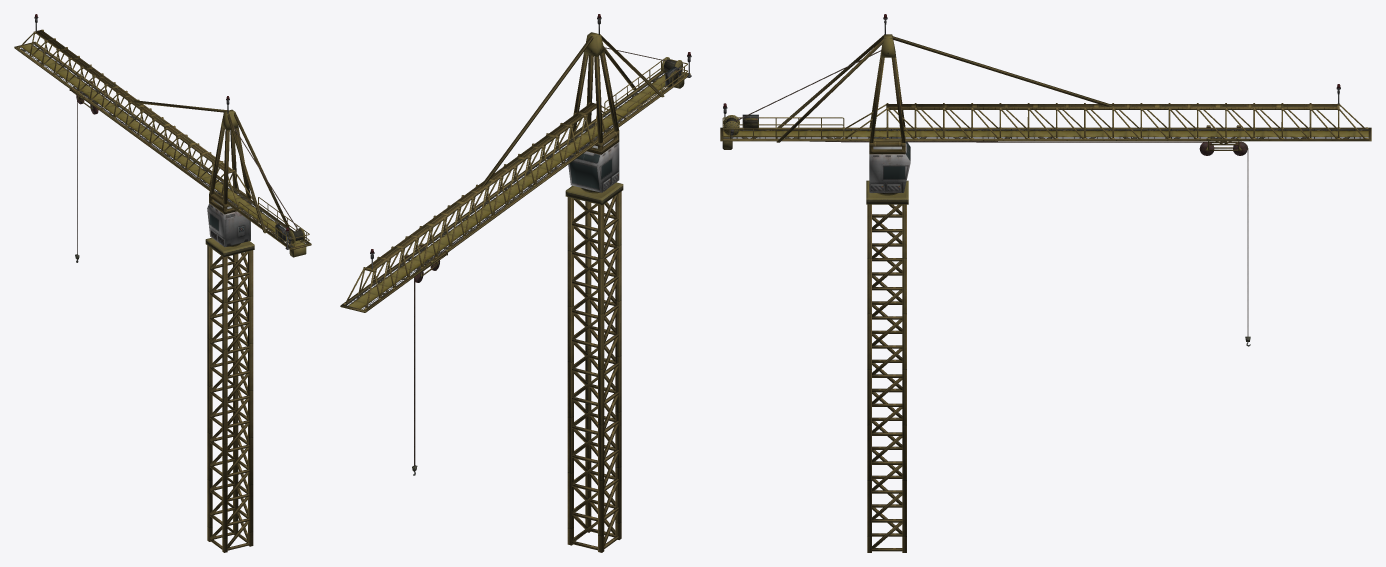
File: CraneModel.obj
3 renders of one model, left to right at view 1: azimuth 30°, elevation 25°; view 2: azimuth 150°, elevation 25°; view 3: azimuth 270°, elevation 25°, orthographic. The views are drawn at different scales.
Parts seen in each view (by area): view 1: Cube.109_Cube.135, Cube.002_Cube.006; view 2: Cube.109_Cube.135, Cube.002_Cube.006; view 3: Cube.109_Cube.135, Cube.002_Cube.006.
Boxes of the visible parts, box(x1,y1,x2,y2) form: Cube.109_Cube.135: box(14, 14, 311, 262); Cube.002_Cube.006: box(205, 237, 254, 552); Cube.109_Cube.135: box(340, 14, 691, 475); Cube.002_Cube.006: box(565, 182, 623, 552); Cube.109_Cube.135: box(720, 14, 1371, 346); Cube.002_Cube.006: box(866, 180, 908, 552).
Bounding box in the file's own units: 1.98 × 27.28 × 30.5.
